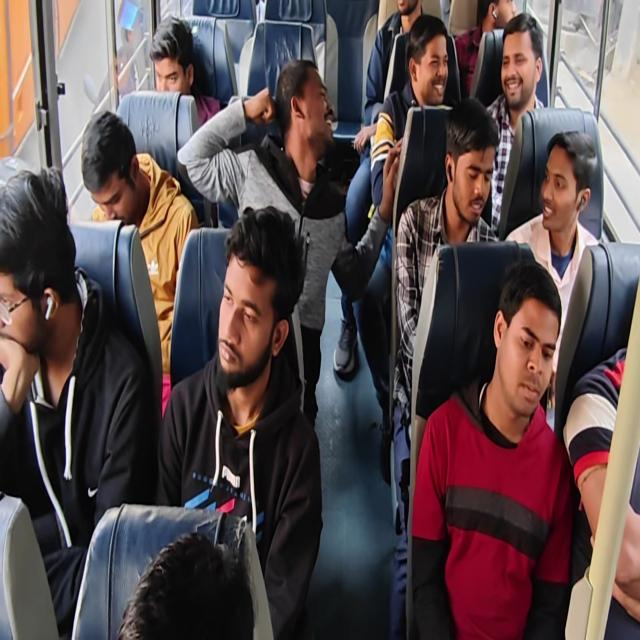person: (0, 172, 81, 390), (125, 533, 242, 640), (216, 219, 294, 375), (482, 280, 558, 426), (85, 112, 146, 225), (266, 64, 334, 158), (142, 24, 199, 101), (540, 134, 582, 233), (450, 122, 490, 212), (497, 31, 537, 106), (414, 32, 446, 105), (367, 0, 425, 19), (483, 0, 518, 30)
